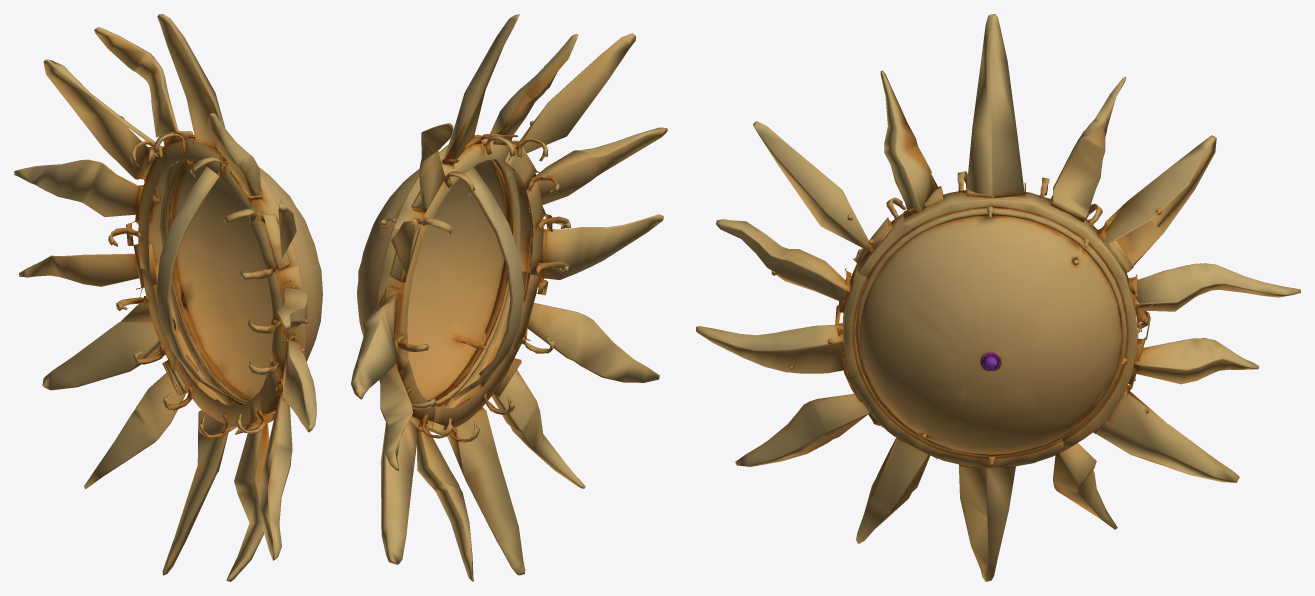
The model's file is r33-sun.glb.
The picture shows the model from 3 angles, left to right: view 1: azimuth 30°, elevation 25°; view 2: azimuth 150°, elevation 25°; view 3: azimuth 270°, elevation 25°; orthographic projection.
Parts seen in each view (by area): view 1: tripo_node_40631e47-e173-4926-afc4-3078e746fb08; view 2: tripo_node_40631e47-e173-4926-afc4-3078e746fb08; view 3: tripo_node_40631e47-e173-4926-afc4-3078e746fb08.
Boxes of the visible parts, x1,y1,x2,y2 form: tripo_node_40631e47-e173-4926-afc4-3078e746fb08: (14,14,322,581); tripo_node_40631e47-e173-4926-afc4-3078e746fb08: (351,14,667,581); tripo_node_40631e47-e173-4926-afc4-3078e746fb08: (696,14,1300,581).
Bounding box in the file's own units: 0.3027 × 0.998 × 0.9668.
1 material, 1 textured.
